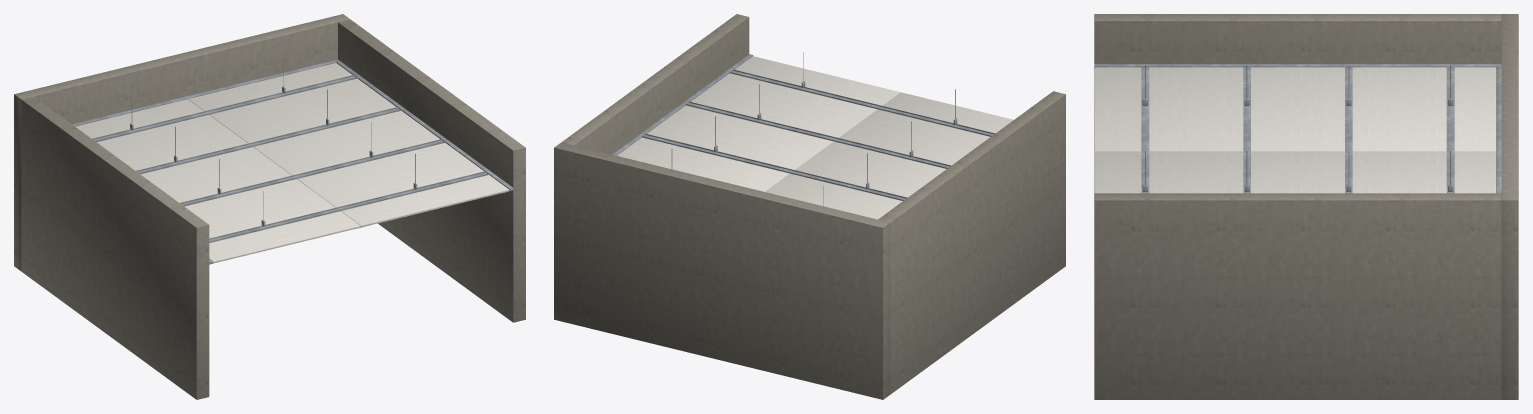
Rendered from KIT-REV-05.glb.
3 renders of one model, left to right at view 1: azimuth 30°, elevation 25°; view 2: azimuth 150°, elevation 25°; view 3: azimuth 270°, elevation 25°, orthographic. The views are drawn at different scales.
Parts seen in each view (by area): view 1: KIT-REV-05_parede_lado-1, KIT-REV-05_placa1_gesso, KIT-REV-05_parede_lado1, KIT-REV-05_placa0_gesso, KIT-REV-05_parede_fundo, KIT-REV-05, KIT-REV-05_f530_-9, KIT-REV-05_f530_-3, KIT-REV-05_tabica_fundo, KIT-REV-05_tabica_d; view 2: KIT-REV-05_parede_fundo, KIT-REV-05_parede_lado-1, KIT-REV-05_placa1_gesso, KIT-REV-05_placa0_gesso, KIT-REV-05_parede_lado1, KIT-REV-05_f530_-3, KIT-REV-05_f530_-9, KIT-REV-05, KIT-REV-05_tabica_d; view 3: KIT-REV-05_parede_lado1, KIT-REV-05_placa0_gesso, KIT-REV-05_parede_lado-1, KIT-REV-05_placa1_gesso, KIT-REV-05_parede_fundo, KIT-REV-05, KIT-REV-05_tabica_e, KIT-REV-05_f530_-9, KIT-REV-05_f530_-3, KIT-REV-05_tabica_fundo.
Part boxes in pixels (box(x1,y1,x2,y2)): KIT-REV-05_parede_lado-1: box(21, 96, 209, 399); KIT-REV-05_placa1_gesso: box(188, 63, 509, 226); KIT-REV-05_parede_lado1: box(338, 19, 525, 322); KIT-REV-05_placa0_gesso: box(75, 99, 360, 263); KIT-REV-05_parede_fundo: box(14, 14, 349, 270); KIT-REV-05: box(92, 75, 401, 174); KIT-REV-05_f530_-9: box(209, 171, 489, 242); KIT-REV-05_f530_-3: box(180, 139, 445, 206); KIT-REV-05_tabica_fundo: box(72, 60, 339, 126); KIT-REV-05_tabica_d: box(335, 59, 513, 191); KIT-REV-05_parede_fundo: box(554, 142, 890, 399); KIT-REV-05_parede_lado-1: box(878, 91, 1065, 394); KIT-REV-05_placa1_gesso: box(617, 56, 900, 191); KIT-REV-05_placa0_gesso: box(765, 92, 1013, 219); KIT-REV-05_parede_lado1: box(562, 14, 749, 154); KIT-REV-05_f530_-3: box(685, 101, 951, 168); KIT-REV-05_f530_-9: box(729, 69, 995, 136); KIT-REV-05: box(642, 133, 907, 200); KIT-REV-05_tabica_d: box(612, 54, 753, 155); KIT-REV-05_parede_lado1: box(1094, 193, 1501, 399); KIT-REV-05_placa0_gesso: box(1094, 67, 1496, 151); KIT-REV-05_parede_lado-1: box(1094, 14, 1501, 63); KIT-REV-05_placa1_gesso: box(1094, 151, 1496, 193); KIT-REV-05_parede_fundo: box(1501, 14, 1518, 399); KIT-REV-05: box(1345, 66, 1454, 193); KIT-REV-05_tabica_e: box(1094, 64, 1501, 68); KIT-REV-05_f530_-9: box(1141, 66, 1149, 193); KIT-REV-05_f530_-3: box(1243, 67, 1250, 193); KIT-REV-05_tabica_fundo: box(1496, 66, 1501, 193).
Bounding box in the file's own units: 2.6 × 1.3 × 2.5.
Materials: 5 (5 with a texture image).
